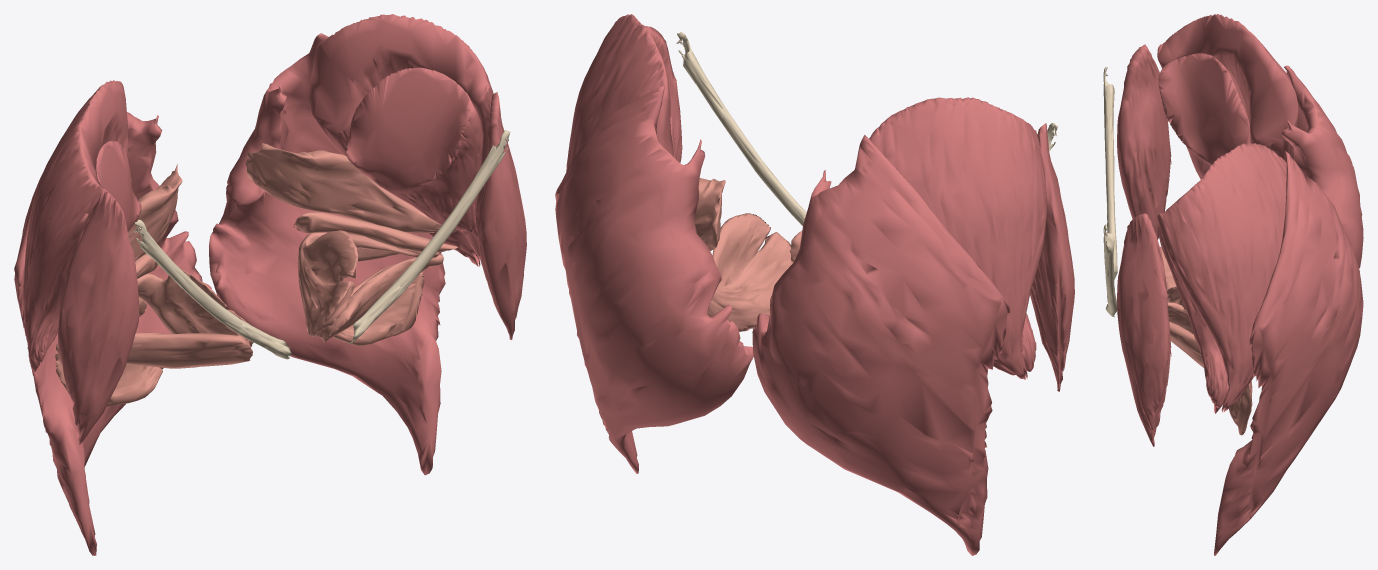
Rendered from vanatome-1.4.0-muscles-lower-pelvic.glb.
3 views of the same model, side by side, from view 1: azimuth 30°, elevation 25°; view 2: azimuth 150°, elevation 25°; view 3: azimuth 270°, elevation 25° (orthographic). The views are drawn at different scales.
Parts seen in each view (by area): view 1: superficial-gluteal-muscles-gluteus-maximus-muscle-left__Glu, superficial-gluteal-muscles-gluteus-minimus-muscle-left__Glu, superficial-gluteal-muscles-tensor-fasciae-latae-right__Tens, superficial-gluteal-muscles-gluteus-medius-muscle-left__Glut, superficial-gluteal-muscles-gluteus-medius-muscle-right__Glu, superficial-gluteal-muscles-gluteus-maximus-muscle-right__Gl, deep-gluteal-muscles-piriformis-muscle-left__Piriformis musc, superficial-gluteal-muscles-tensor-fasciae-latae-left__Tenso, deep-gluteal-muscles-obturator-internus-left__Obturator inte, superficial-gluteal-muscles-gluteus-minimus-muscle-right__Gl, deep-gluteal-muscles-obturator-externus-right__Obturator ext, deep-gluteal-muscles-obturator-internus-right__Obturator int (+7 smaller); view 2: superficial-gluteal-muscles-gluteus-maximus-muscle-right__Gl, superficial-gluteal-muscles-gluteus-maximus-muscle-left__Glu, superficial-gluteal-muscles-gluteus-medius-muscle-right__Glu, superficial-gluteal-muscles-gluteus-medius-muscle-left__Glut, deep-gluteal-muscles-obturator-internus-left__Obturator inte, superficial-gluteal-muscles-tensor-fasciae-latae-right__Tens, inguinal-ligaments-inguinal-ligament-left__Inguinal ligament, deep-gluteal-muscles-piriformis-muscle-left__Piriformis musc, superficial-gluteal-muscles-tensor-fasciae-latae-left__Tenso; view 3: superficial-gluteal-muscles-gluteus-maximus-muscle-left__Glu, superficial-gluteal-muscles-gluteus-medius-muscle-left__Glut, superficial-gluteal-muscles-tensor-fasciae-latae-left__Tenso, superficial-gluteal-muscles-gluteus-medius-muscle-right__Glu, superficial-gluteal-muscles-gluteus-minimus-muscle-right__Gl, superficial-gluteal-muscles-tensor-fasciae-latae-right__Tens, superficial-gluteal-muscles-gluteus-maximus-muscle-right__Gl, superficial-gluteal-muscles-gluteus-minimus-muscle-left__Glu, inguinal-ligaments-inguinal-ligament-right__Inguinal ligamen, inguinal-ligaments-inguinal-ligament-left__Inguinal ligament, deep-gluteal-muscles-obturator-externus-left__Obturator exte, deep-gluteal-muscles-quadratus-femoris-muscle-left__Quadratu (+1 smaller).
Part boxes in pixels (x1,y1,x2,y2): superficial-gluteal-muscles-gluteus-maximus-muscle-left__Glu: [209, 33, 445, 475]; superficial-gluteal-muscles-gluteus-minimus-muscle-left__Glu: [345, 67, 482, 259]; superficial-gluteal-muscles-tensor-fasciae-latae-right__Tens: [58, 188, 139, 445]; superficial-gluteal-muscles-gluteus-medius-muscle-left__Glut: [309, 14, 493, 266]; superficial-gluteal-muscles-gluteus-medius-muscle-right__Glu: [23, 80, 132, 375]; superficial-gluteal-muscles-gluteus-maximus-muscle-right__Gl: [14, 82, 211, 555]; deep-gluteal-muscles-piriformis-muscle-left__Piriformis musc: [245, 143, 458, 232]; superficial-gluteal-muscles-tensor-fasciae-latae-left__Tenso: [475, 92, 526, 339]; deep-gluteal-muscles-obturator-internus-left__Obturator inte: [298, 230, 439, 337]; superficial-gluteal-muscles-gluteus-minimus-muscle-right__Gl: [28, 141, 141, 371]; deep-gluteal-muscles-obturator-externus-right__Obturator ext: [127, 332, 252, 368]; deep-gluteal-muscles-obturator-internus-right__Obturator int: [137, 269, 253, 346]; superficial-gluteal-muscles-gluteus-maximus-muscle-right__Gl: [752, 135, 1010, 555]; superficial-gluteal-muscles-gluteus-maximus-muscle-left__Glu: [555, 86, 753, 473]; superficial-gluteal-muscles-gluteus-medius-muscle-right__Glu: [869, 97, 1046, 379]; superficial-gluteal-muscles-gluteus-medius-muscle-left__Glut: [566, 14, 674, 171]; deep-gluteal-muscles-obturator-internus-left__Obturator inte: [707, 213, 792, 331]; superficial-gluteal-muscles-tensor-fasciae-latae-right__Tens: [1030, 123, 1074, 391]; inguinal-ligaments-inguinal-ligament-left__Inguinal ligament: [676, 32, 806, 226]; deep-gluteal-muscles-piriformis-muscle-left__Piriformis musc: [694, 178, 725, 250]; superficial-gluteal-muscles-tensor-fasciae-latae-left__Tenso: [645, 26, 682, 162]; superficial-gluteal-muscles-gluteus-maximus-muscle-left__Glu: [1214, 151, 1363, 555]; superficial-gluteal-muscles-gluteus-medius-muscle-left__Glut: [1157, 143, 1286, 412]; superficial-gluteal-muscles-tensor-fasciae-latae-left__Tenso: [1117, 213, 1171, 446]; superficial-gluteal-muscles-gluteus-medius-muscle-right__Glu: [1157, 14, 1298, 162]; superficial-gluteal-muscles-gluteus-minimus-muscle-right__Gl: [1158, 53, 1250, 179]; superficial-gluteal-muscles-tensor-fasciae-latae-right__Tens: [1117, 44, 1171, 239]; superficial-gluteal-muscles-gluteus-maximus-muscle-right__Gl: [1214, 65, 1363, 413]; superficial-gluteal-muscles-gluteus-minimus-muscle-left__Glu: [1158, 227, 1229, 407]; inguinal-ligaments-inguinal-ligament-right__Inguinal ligamen: [1103, 67, 1117, 279]; inguinal-ligaments-inguinal-ligament-left__Inguinal ligament: [1103, 224, 1117, 317]; deep-gluteal-muscles-obturator-externus-left__Obturator exte: [1169, 321, 1203, 367]; deep-gluteal-muscles-quadratus-femoris-muscle-left__Quadratu: [1229, 381, 1252, 435].
Bounding box in the file's own units: 0.3042 × 0.2875 × 0.1688.
